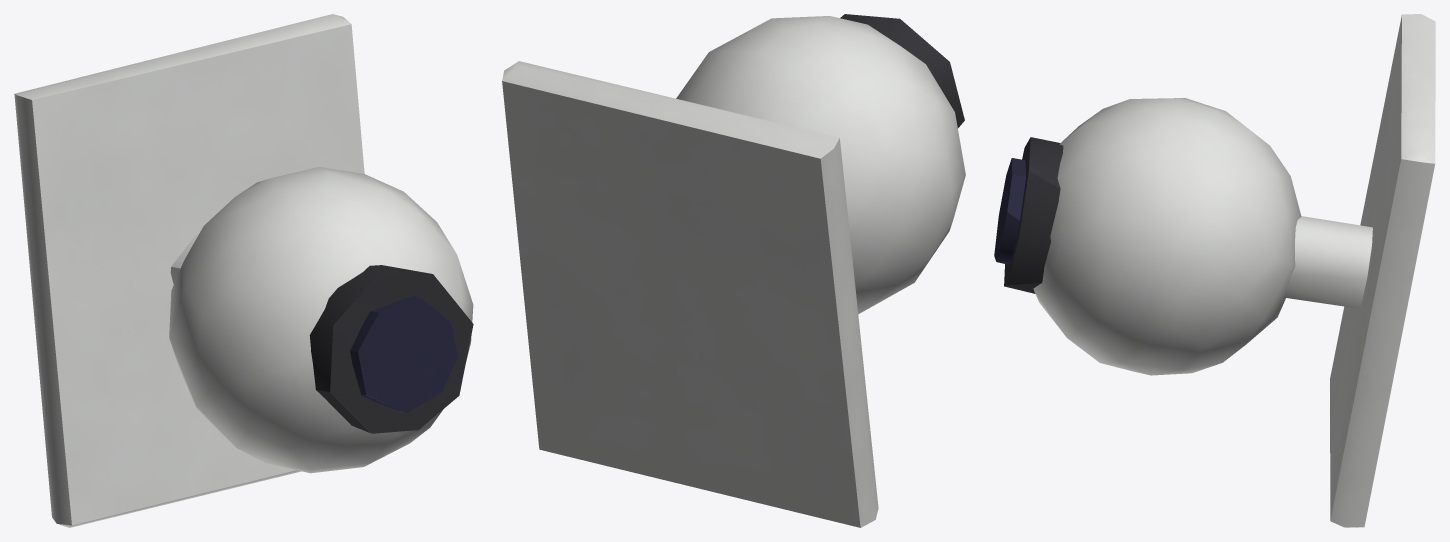
The model's file is SM_WallCamera_LOD1.fbx.
3 views of the same model, side by side, from view 1: azimuth 30°, elevation 25°; view 2: azimuth 150°, elevation 25°; view 3: azimuth 270°, elevation 25° (orthographic). The views are drawn at different scales.
Visible parts, largest first — view 1: SM_WallCamera_LOD1; view 2: SM_WallCamera_LOD1; view 3: SM_WallCamera_LOD1.
Boxes of the visible parts, bbox=[...] form: SM_WallCamera_LOD1: bbox=[14, 14, 473, 527]; SM_WallCamera_LOD1: bbox=[502, 14, 965, 527]; SM_WallCamera_LOD1: bbox=[994, 14, 1435, 527].
Size of the model in its own units: 0.0994 by 0.119 by 0.1261.
1 material, 1 textured.
